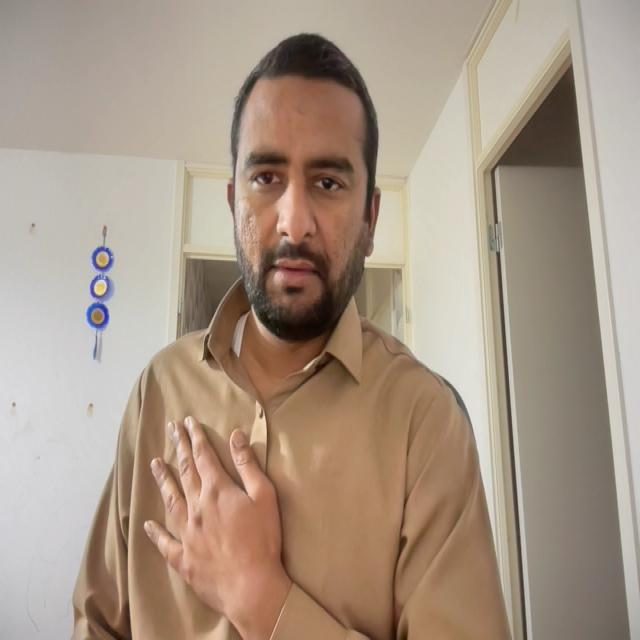Please: (129, 394, 346, 640)
